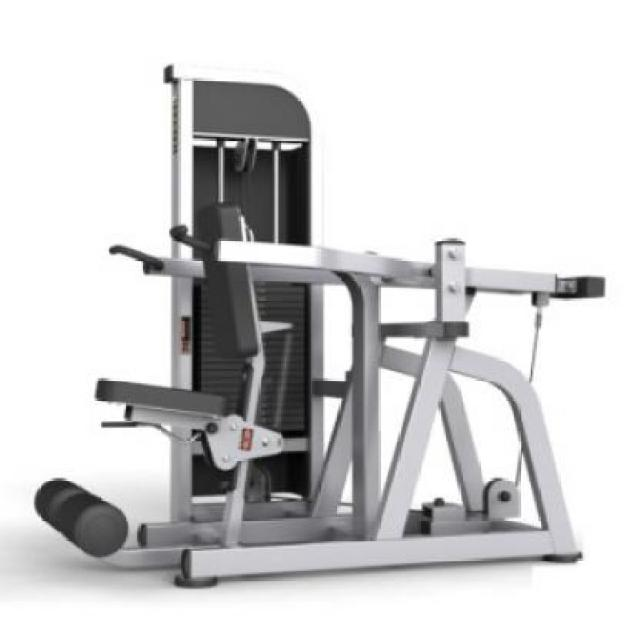seated dip machine: (36, 63, 602, 585)
